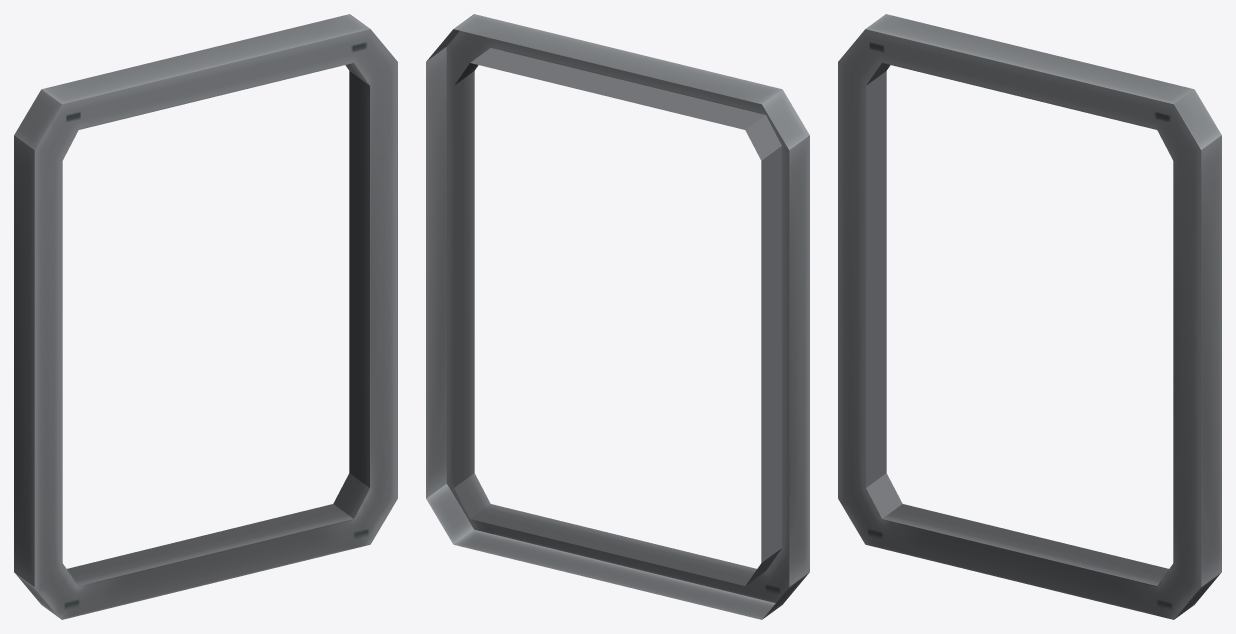
Rendered from SM_Laboratory_DoorFrame.fbx.
3 renders of one model, left to right at view 1: azimuth 30°, elevation 25°; view 2: azimuth 150°, elevation 25°; view 3: azimuth 330°, elevation 25°, orthographic.
Parts seen in each view (by area): view 1: SM_Laboratory_DoorFrame; view 2: SM_Laboratory_DoorFrame; view 3: SM_Laboratory_DoorFrame.
Part boxes in pixels (bbox=[...]): SM_Laboratory_DoorFrame: bbox=[14, 14, 397, 619]; SM_Laboratory_DoorFrame: bbox=[426, 14, 809, 619]; SM_Laboratory_DoorFrame: bbox=[838, 14, 1221, 619].
Bounding box in the file's own units: 149 × 202 × 14.68.
1 material, 1 textured.
